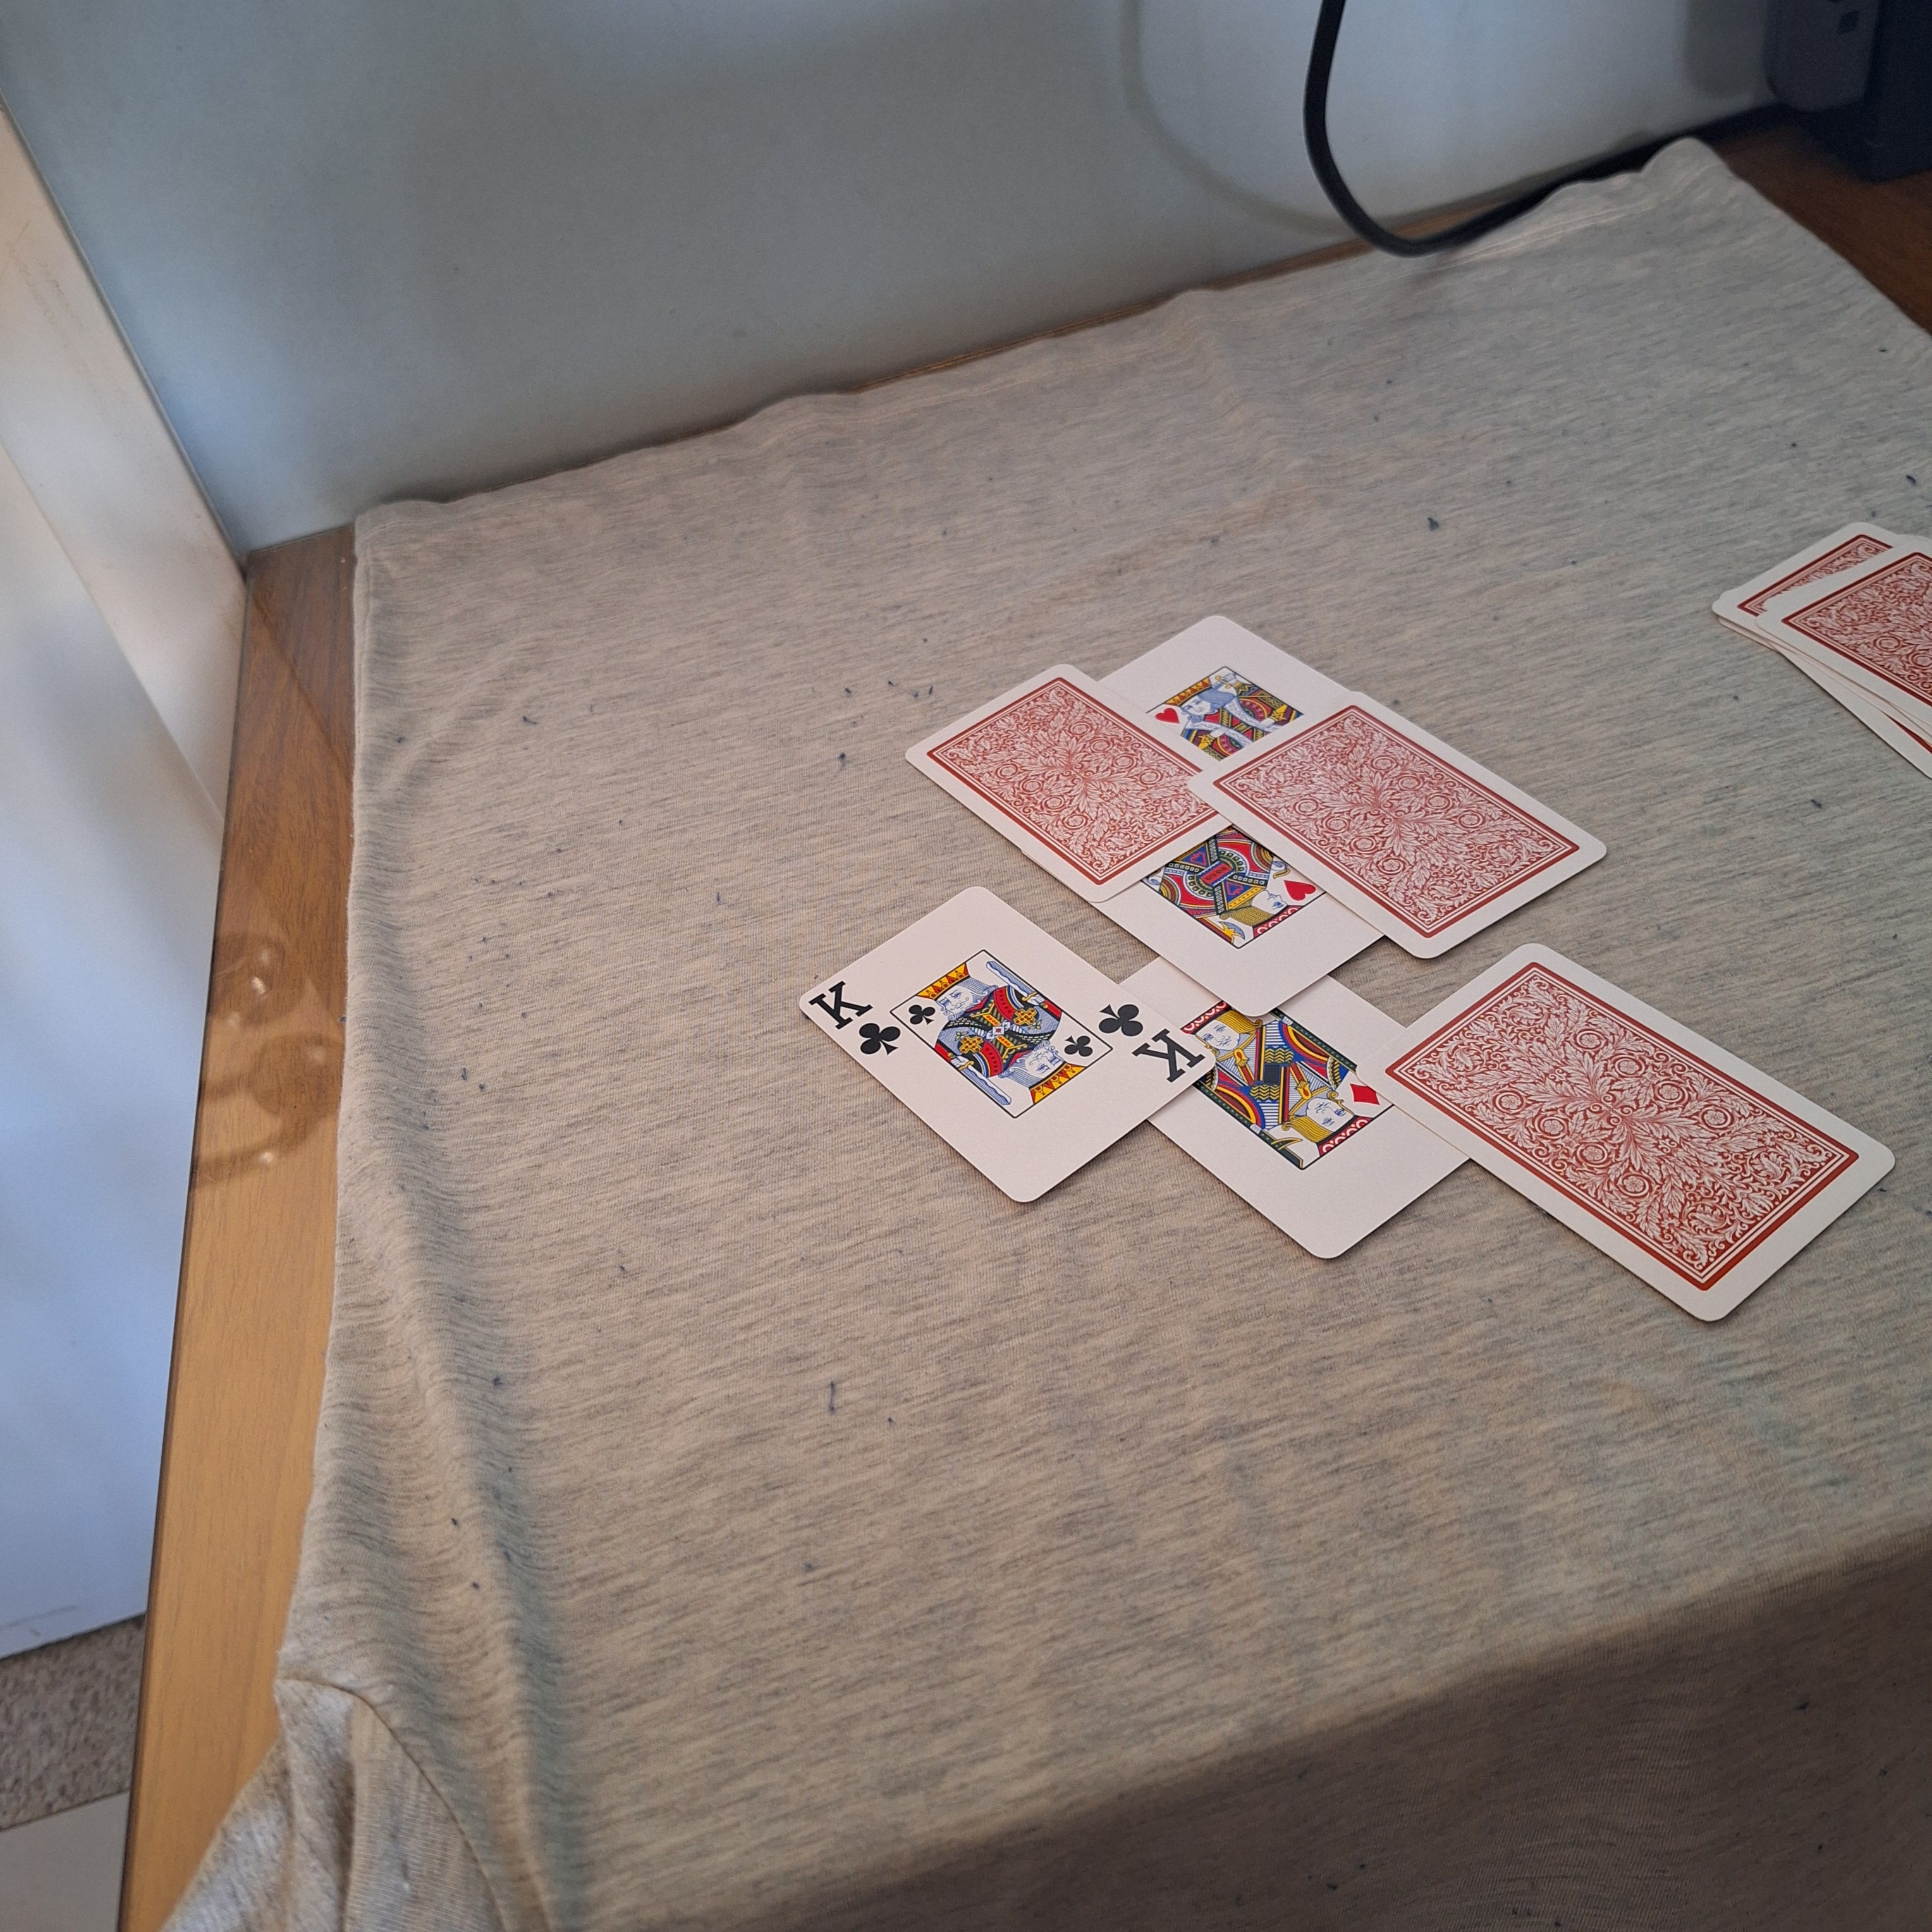KP: (1092, 1000, 1205, 1088), (805, 971, 902, 1060)
